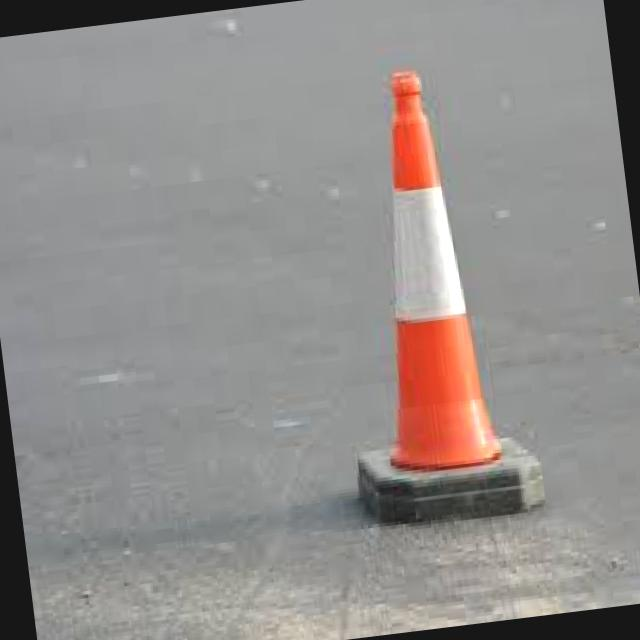cone: (338, 58, 502, 471)
